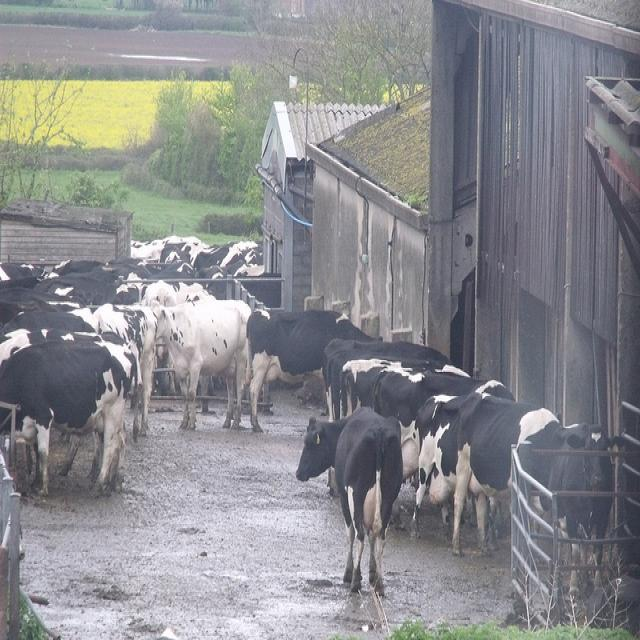cow: (0, 225, 269, 364), (0, 330, 142, 494), (452, 391, 578, 555), (295, 404, 402, 596), (325, 357, 468, 495), (373, 370, 514, 498), (244, 308, 383, 431), (148, 297, 250, 428), (321, 336, 455, 421), (406, 393, 466, 540), (99, 301, 157, 440), (0, 305, 103, 336), (139, 278, 178, 302), (0, 263, 34, 281)
